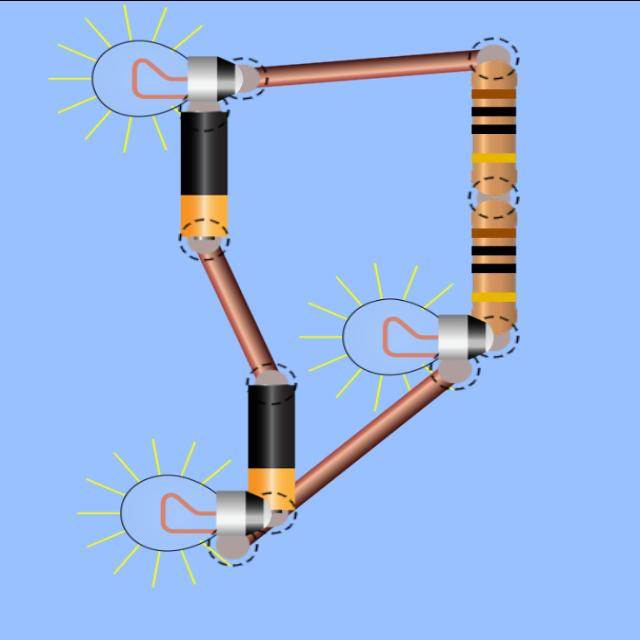Battery: (248, 371, 296, 509), (181, 111, 226, 236)
Light Bulb: (92, 39, 258, 116), (342, 298, 494, 375), (119, 474, 272, 550)
Resistor: (471, 199, 518, 334), (473, 59, 517, 195)
Wire: (296, 369, 452, 506), (199, 246, 276, 375), (257, 49, 478, 86)
